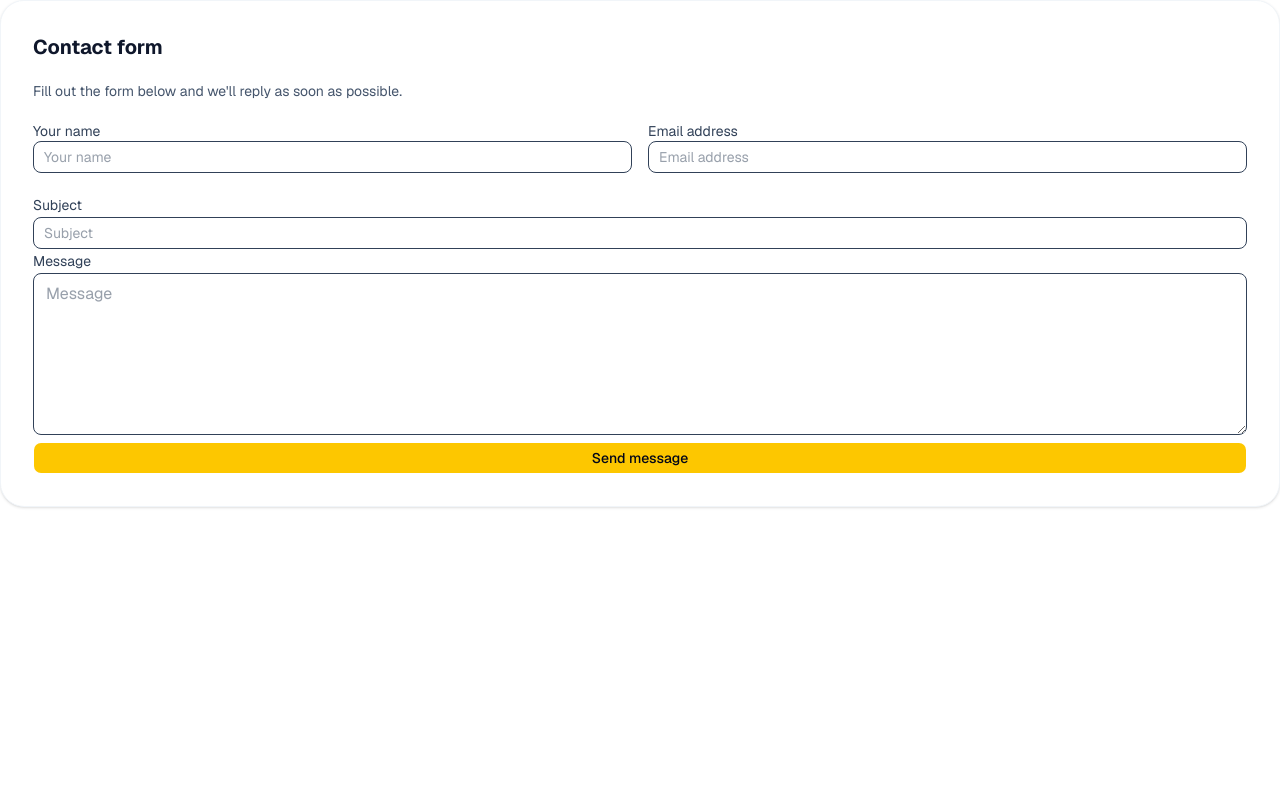
Scenario: ContactForm › shows the success message after a 200 response
In the field with placeholder "Your name": (332, 157) [33,141,632,173], type "Alice Tremblay"
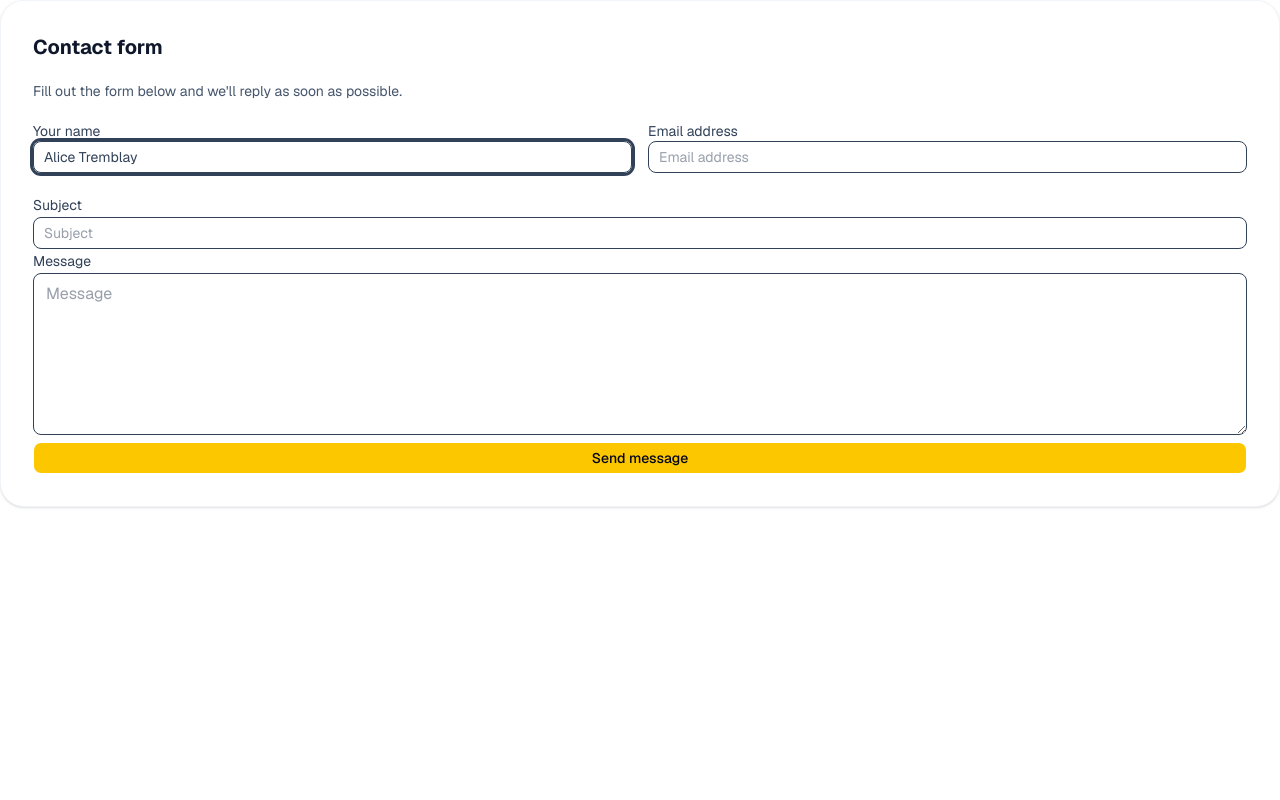
In the field with placeholder "Email address": (948, 157) [648,141,1247,173], type "alice@example.com"
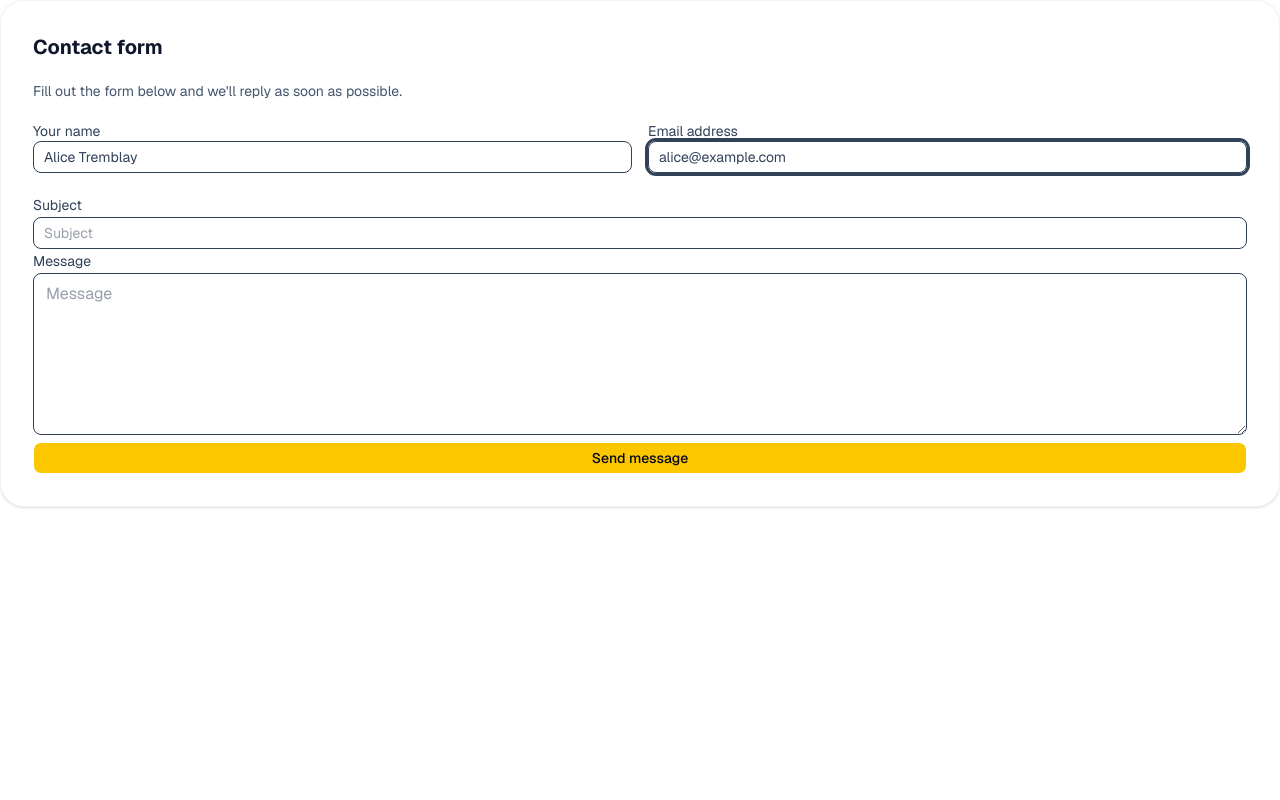
In the field with placeholder "Subject": (640, 233) [33,217,1247,249], type "Website Quote"
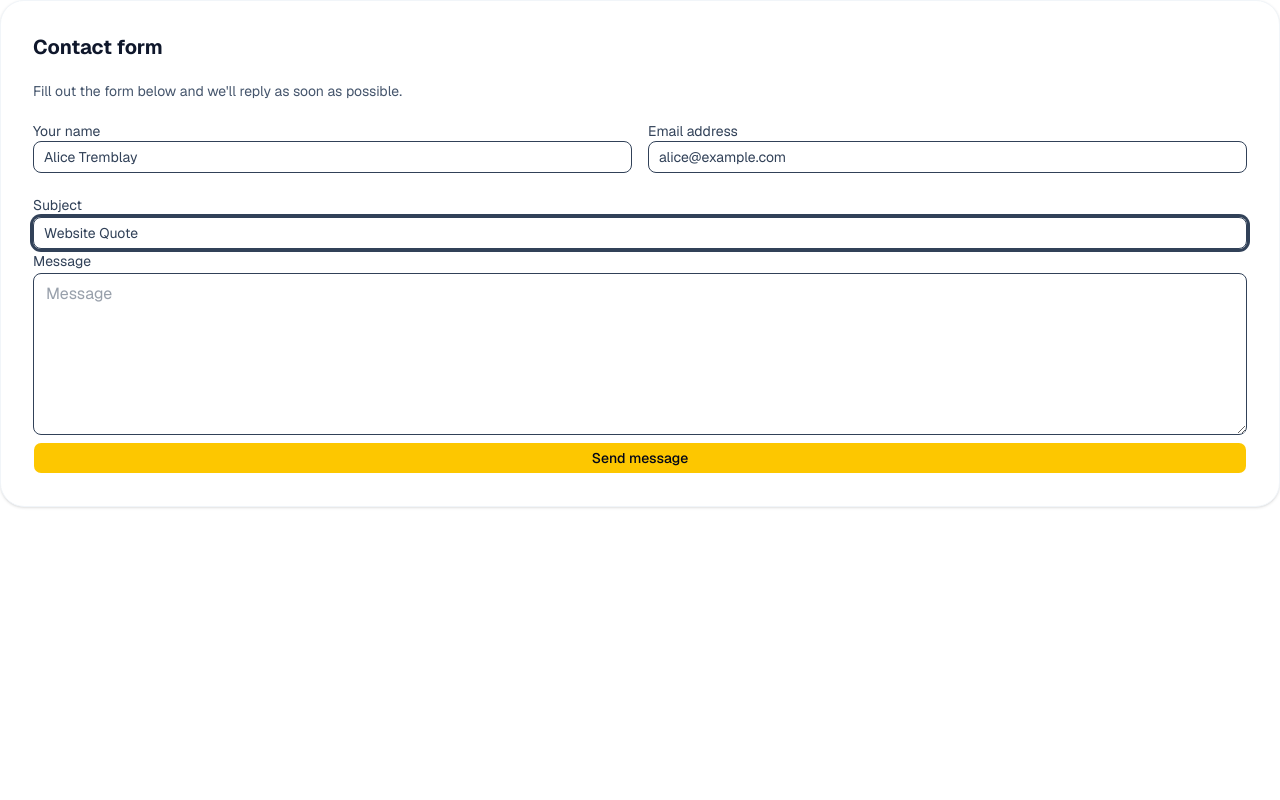
In the text box with placeholder "Message": (640, 354) [33,273,1247,435], type "I would like a quote."
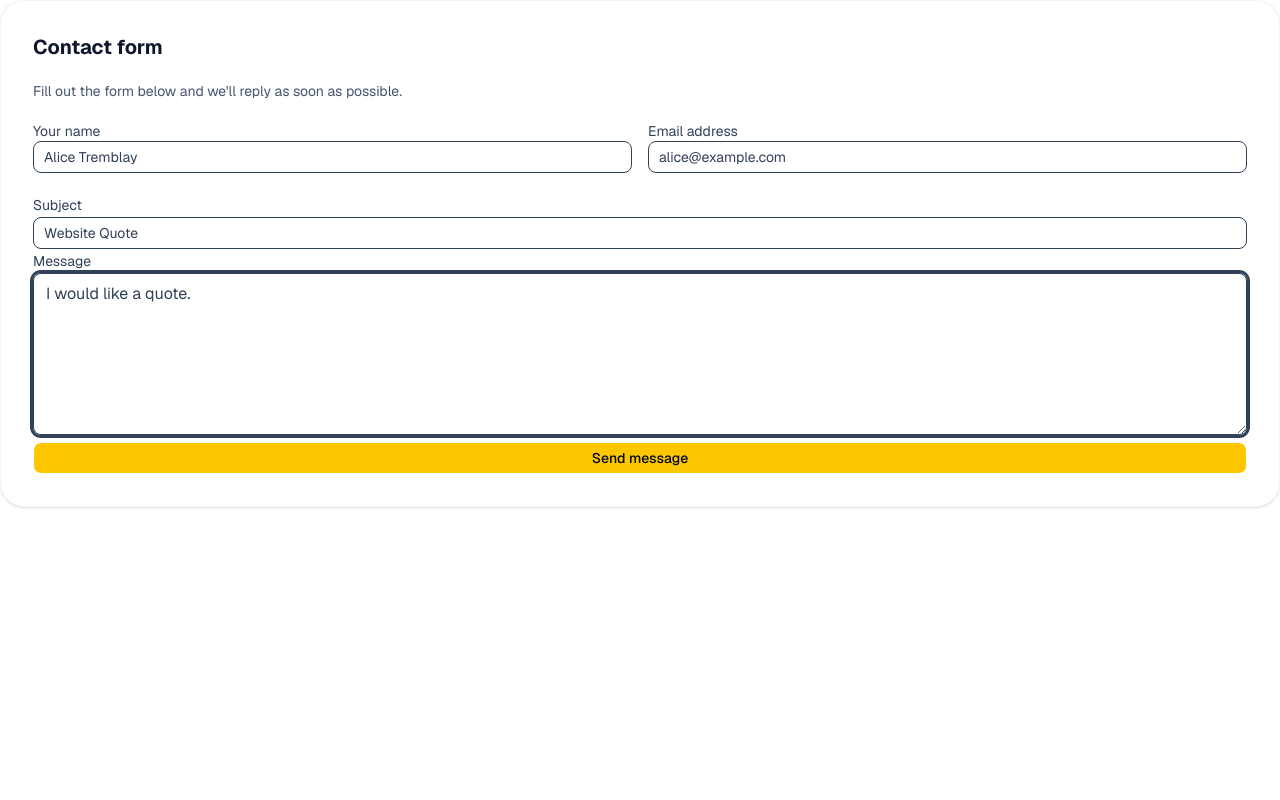
Click the button "Send message": (640, 458) [33,442,1247,474]
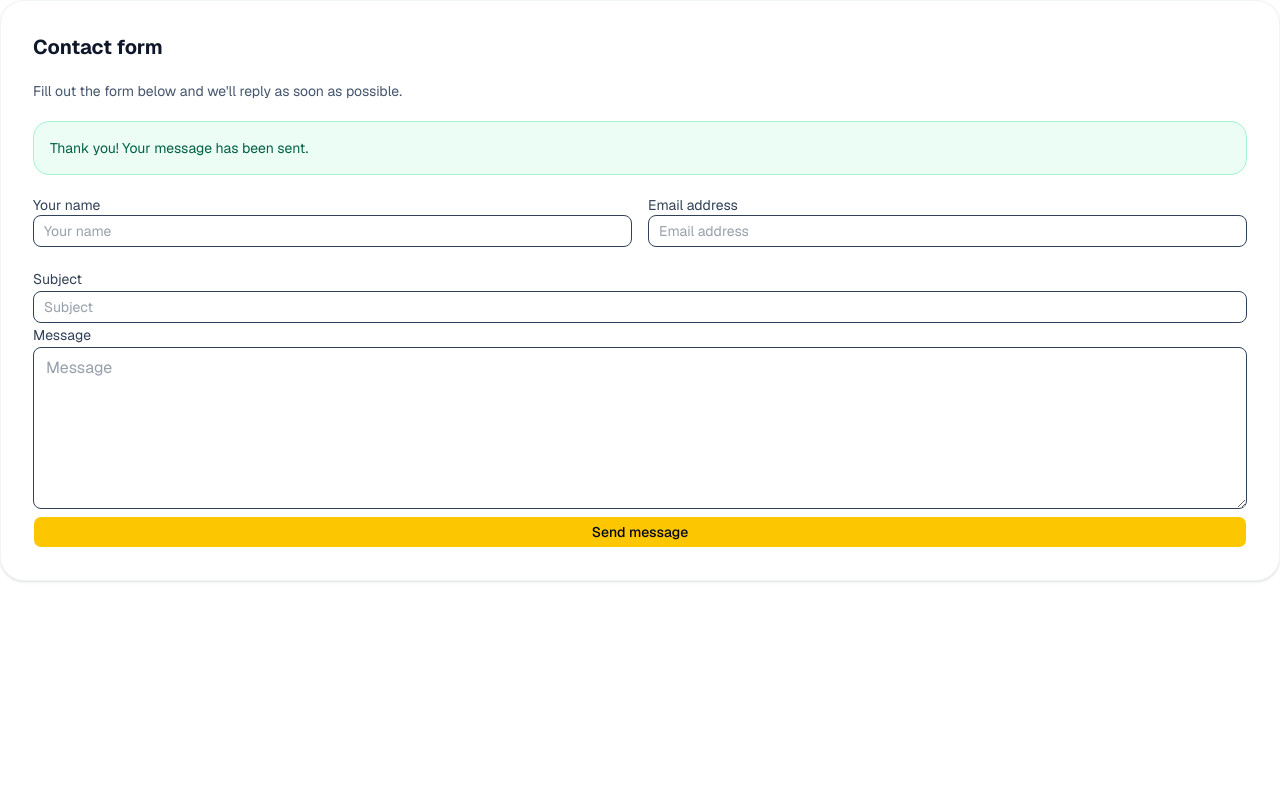
Result: the text "Thank you! Your message has been sent." is shown at [33,121,1247,175]
